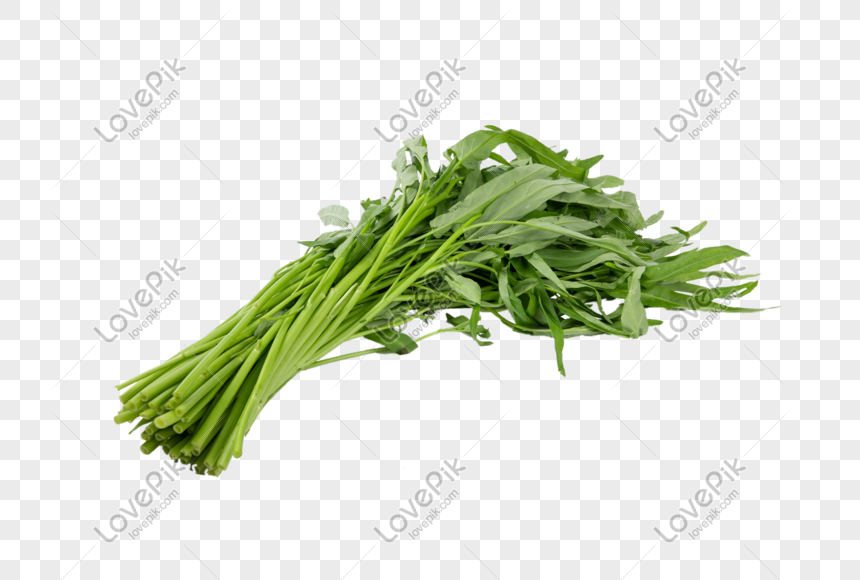Kangkung: (72, 114, 776, 480)
